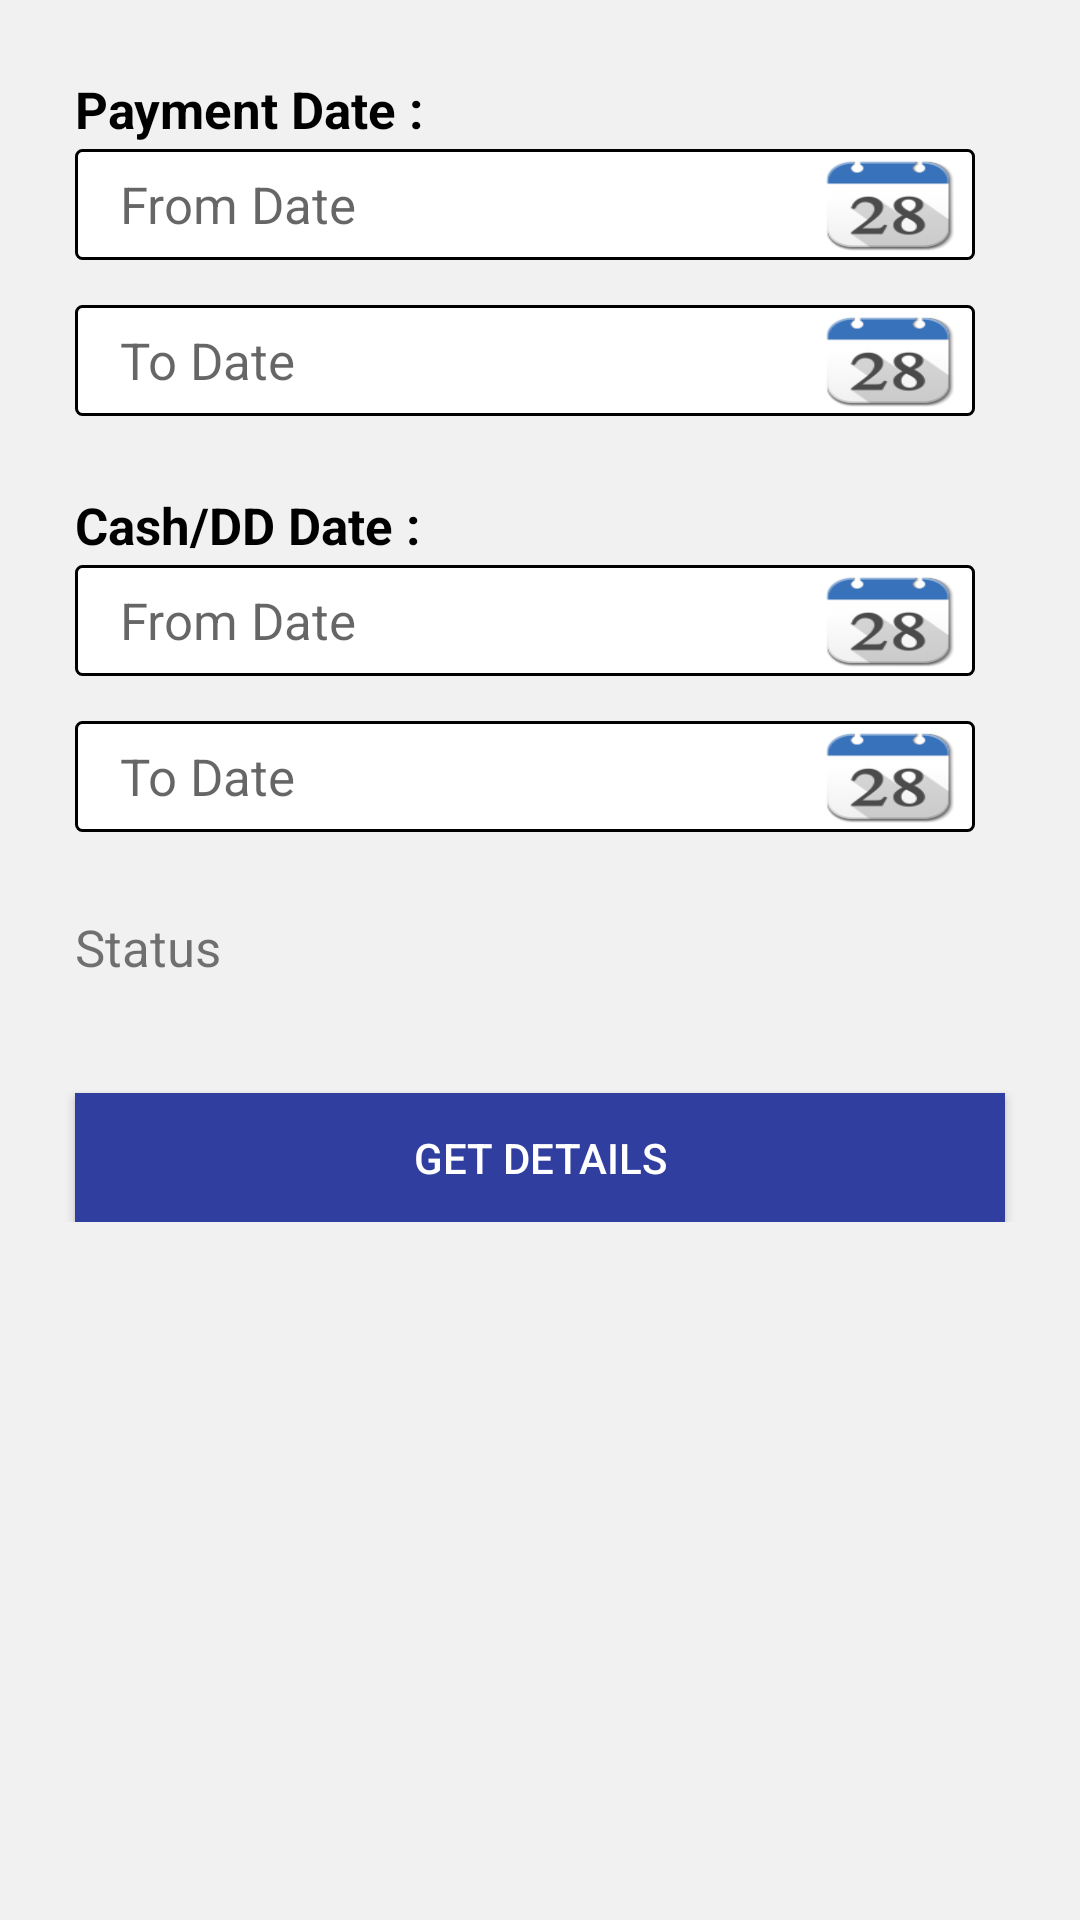

Where to tap for icons on this 1080 × 1920 app screen, as point (x, y):
calendar: point (889, 205), point (889, 361), point (889, 621), point (889, 777)
